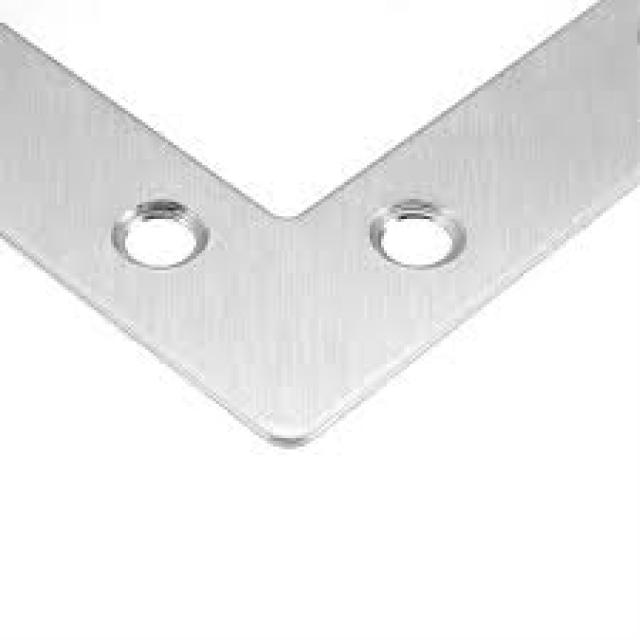holes: (108, 196, 208, 270), (367, 196, 464, 270)
